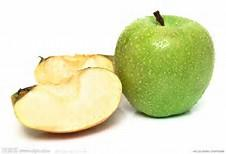apple: (114, 11, 214, 120)
